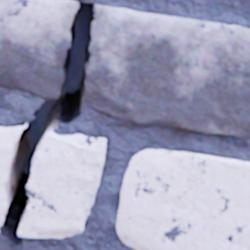brick: (116, 149, 249, 249)
broken_brick: (82, 5, 249, 137), (18, 131, 105, 237), (0, 0, 78, 97), (0, 125, 25, 224)
crack: (0, 1, 95, 248)
